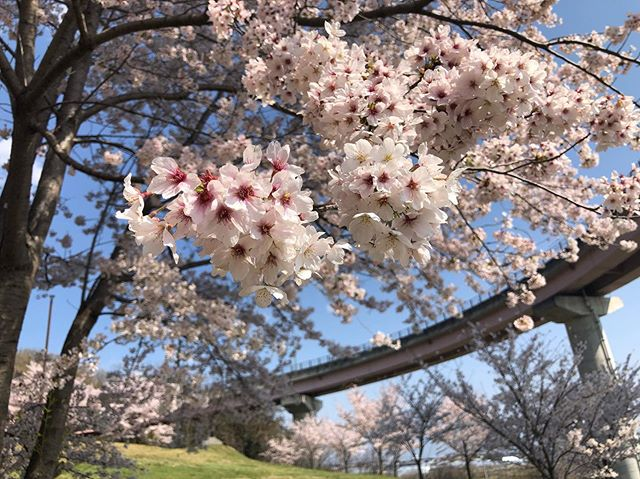bridge: (248, 222, 640, 438)
flowers: (108, 1, 640, 333)
tree: (448, 351, 640, 479), (329, 379, 447, 478)
